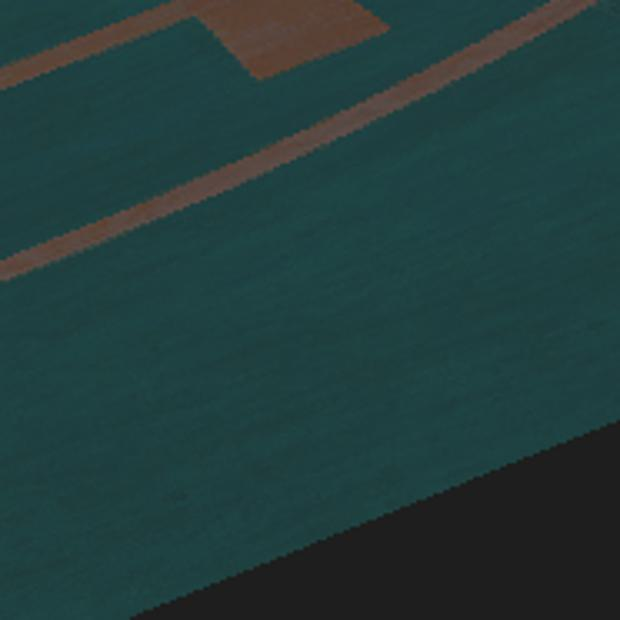Apron: (1, 1, 595, 287)
